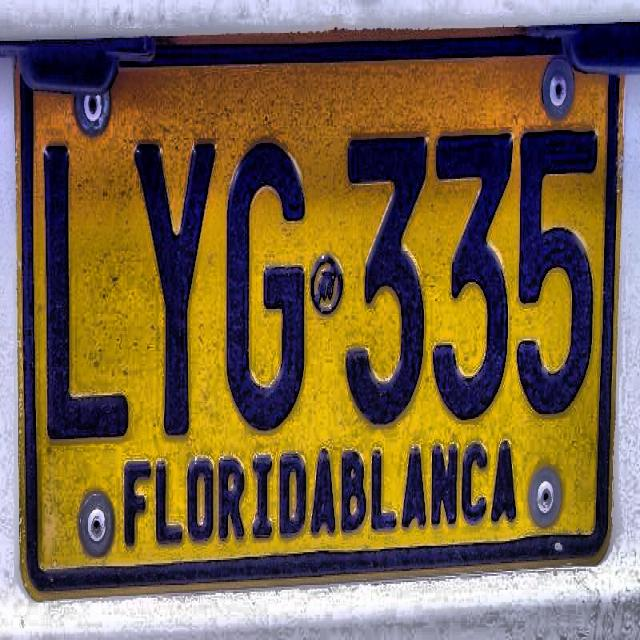plate: (16, 35, 627, 603)
